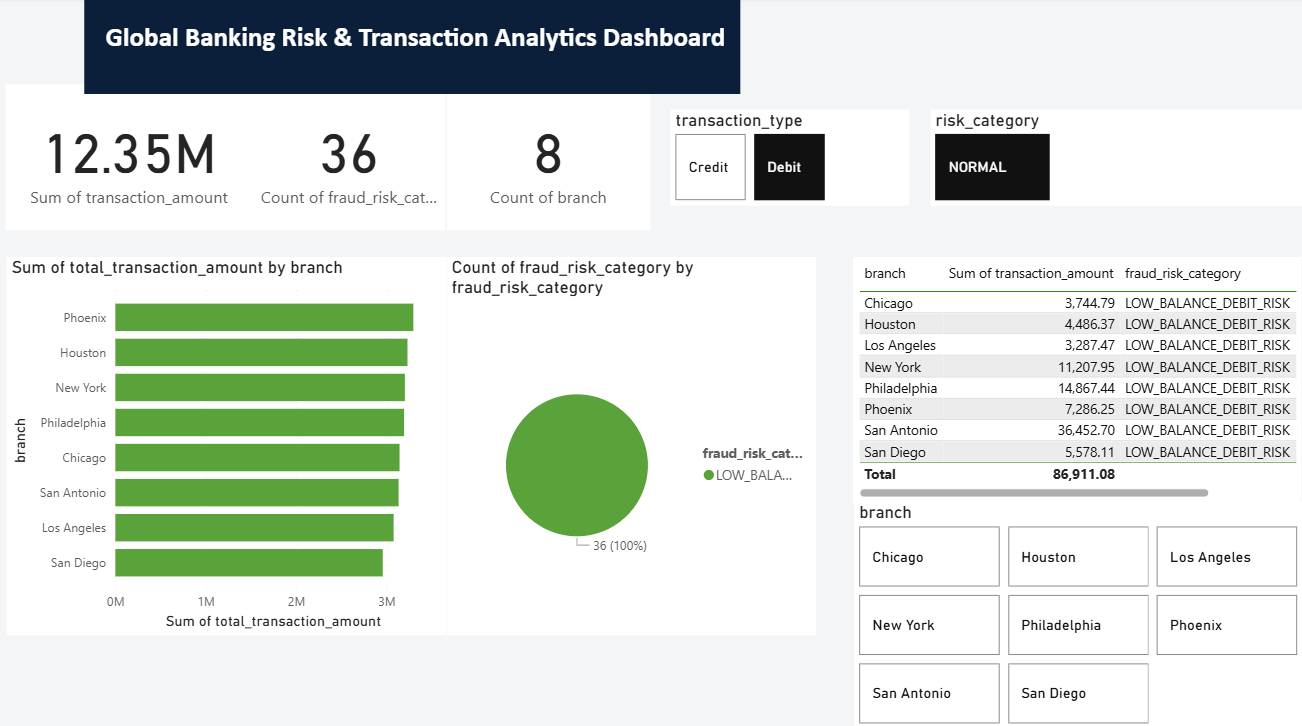

The dashboard page shown, as its layout file describes it:
{"tool":"powerbi","page":{"name":"Banking Executive Overview","canvas":[1280,720],"ordinal":0},"visuals":[{"type":"card","fields":{"Values":["Sum(analytics fact_transactions.transaction_amount)"]},"box":[7.4,85.9,242.9,143.6],"z":0},{"type":"card","fields":{"Values":["CountNonNull(analytics fraud_alerts.fraud_risk_category)"]},"box":[250.3,85.9,189,143.6],"z":1000},{"type":"card","fields":{"Values":["Count(analytics branch_kpi_summary.branch)"]},"box":[440.5,85.9,200,143.6],"z":2000},{"type":"clusteredBarChart","fields":{"Category":["analytics branch_kpi_summary.branch"],"Y":["Sum(analytics branch_kpi_summary.total_transaction_amount)"]},"box":[8.9,254.7,431.3,371],"z":3000},{"type":"pieChart","fields":{"Category":["analytics fraud_alerts.fraud_risk_category"],"Y":["CountNonNull(analytics fraud_alerts.fraud_risk_category)"]},"box":[440.2,254.7,362,371],"z":4000},{"type":"tableEx","fields":{"Values":["analytics fraud_alerts.branch","Sum(analytics fraud_alerts.transaction_amount)","analytics fraud_alerts.fraud_risk_category","analytics fraud_alerts.transaction_type"]},"box":[839.7,255,440.4,241.3],"z":5000},{"type":"advancedSlicerVisual","fields":{"Values":["analytics fact_transactions.branch"]},"box":[840,496,440,224],"z":6000},{"type":"advancedSlicerVisual","fields":{"Values":["analytics fact_transactions.risk_category"]},"box":[915.3,110.4,364.4,94.5],"z":7000},{"type":"advancedSlicerVisual","fields":{"Values":["analytics fact_transactions.transaction_type"]},"box":[660.1,110.4,234.4,94.5],"z":8000},{"type":"textbox","box":[84.5,0,644.2,95.1],"z":9000}]}

Visuals, with their boxes in screenshot pixels (x1, y1, x2, y2), scaled from the page's 1280x720 canvas onto the 1302x726 screenshot:
card - Sum(analytics fact_transactions.transaction_amount): BBox(8, 87, 255, 231)
card - CountNonNull(analytics fraud_alerts.fraud_risk_category): BBox(255, 87, 447, 231)
card - Count(analytics branch_kpi_summary.branch): BBox(448, 87, 652, 231)
clusteredBarChart - analytics branch_kpi_summary.branch x Sum(analytics branch_kpi_summary.total_transaction_amount): BBox(9, 257, 448, 631)
pieChart - analytics fraud_alerts.fraud_risk_category x CountNonNull(analytics fraud_alerts.fraud_risk_category): BBox(448, 257, 816, 631)
tableEx - analytics fraud_alerts.branch x Sum(analytics fraud_alerts.transaction_amount): BBox(854, 257, 1301, 500)
advancedSlicerVisual - analytics fact_transactions.branch: BBox(854, 500, 1301, 725)
advancedSlicerVisual - analytics fact_transactions.risk_category: BBox(931, 111, 1301, 207)
advancedSlicerVisual - analytics fact_transactions.transaction_type: BBox(671, 111, 910, 207)
textbox: BBox(86, 0, 741, 96)
